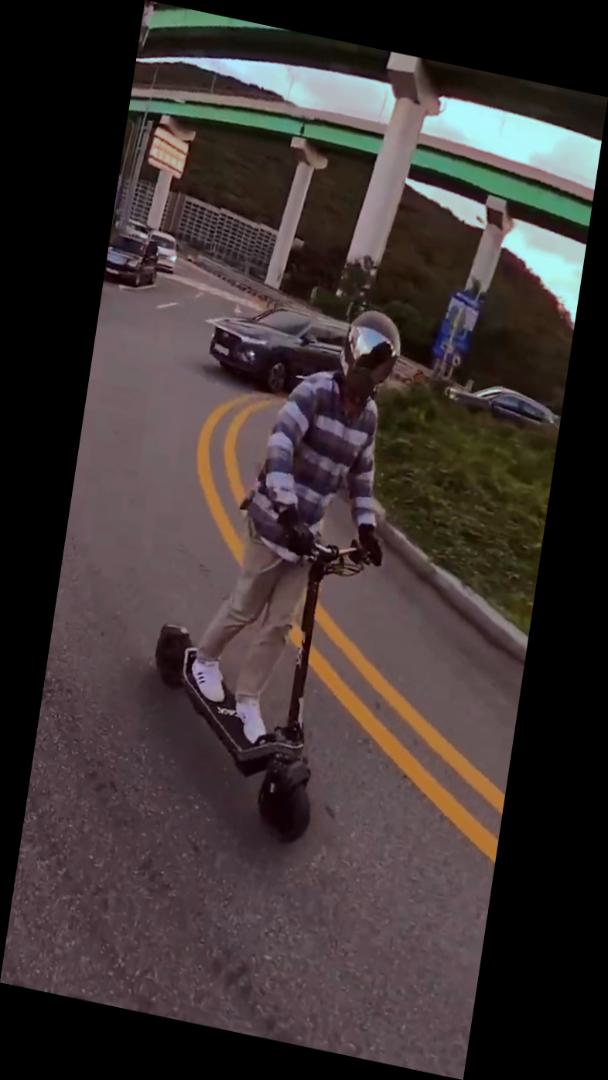helmet: (127, 267, 422, 856)
